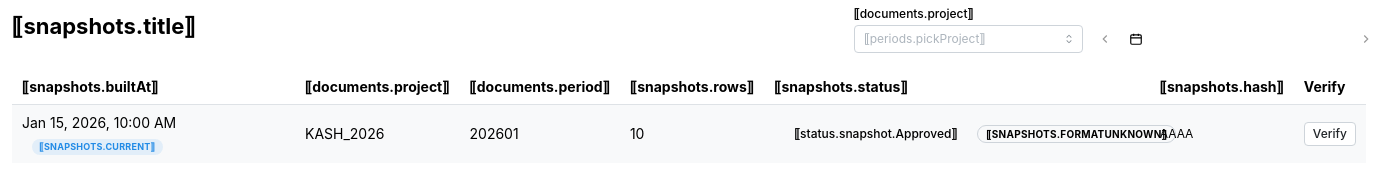
Test: SnapshotsPage: перевірка незмінності зрізу (BE-17) › розбіжність — бейдж «content changed» і ОБИДВІ суми цілком
This screenshot has width=1390, height=195.
Click the button "Verify": (1330, 134) [1304,122,1356,146]
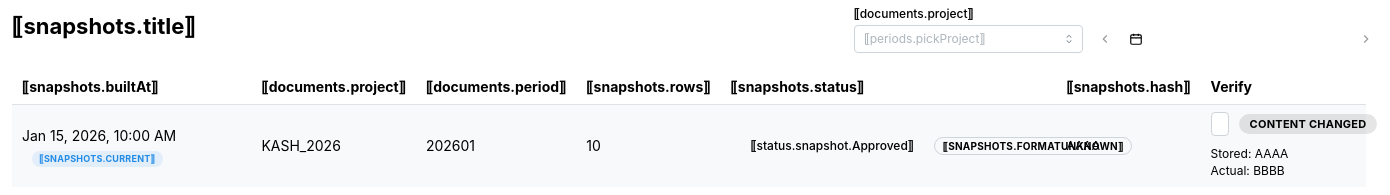
Check: the text "content changed" is shown, box [1250,116,1366,134]
Check: the text "Stored: AAAA" is shown, box [1210,146,1288,162]
Check: the text "Actual: BBBB" is shown, box [1210,163,1284,178]
